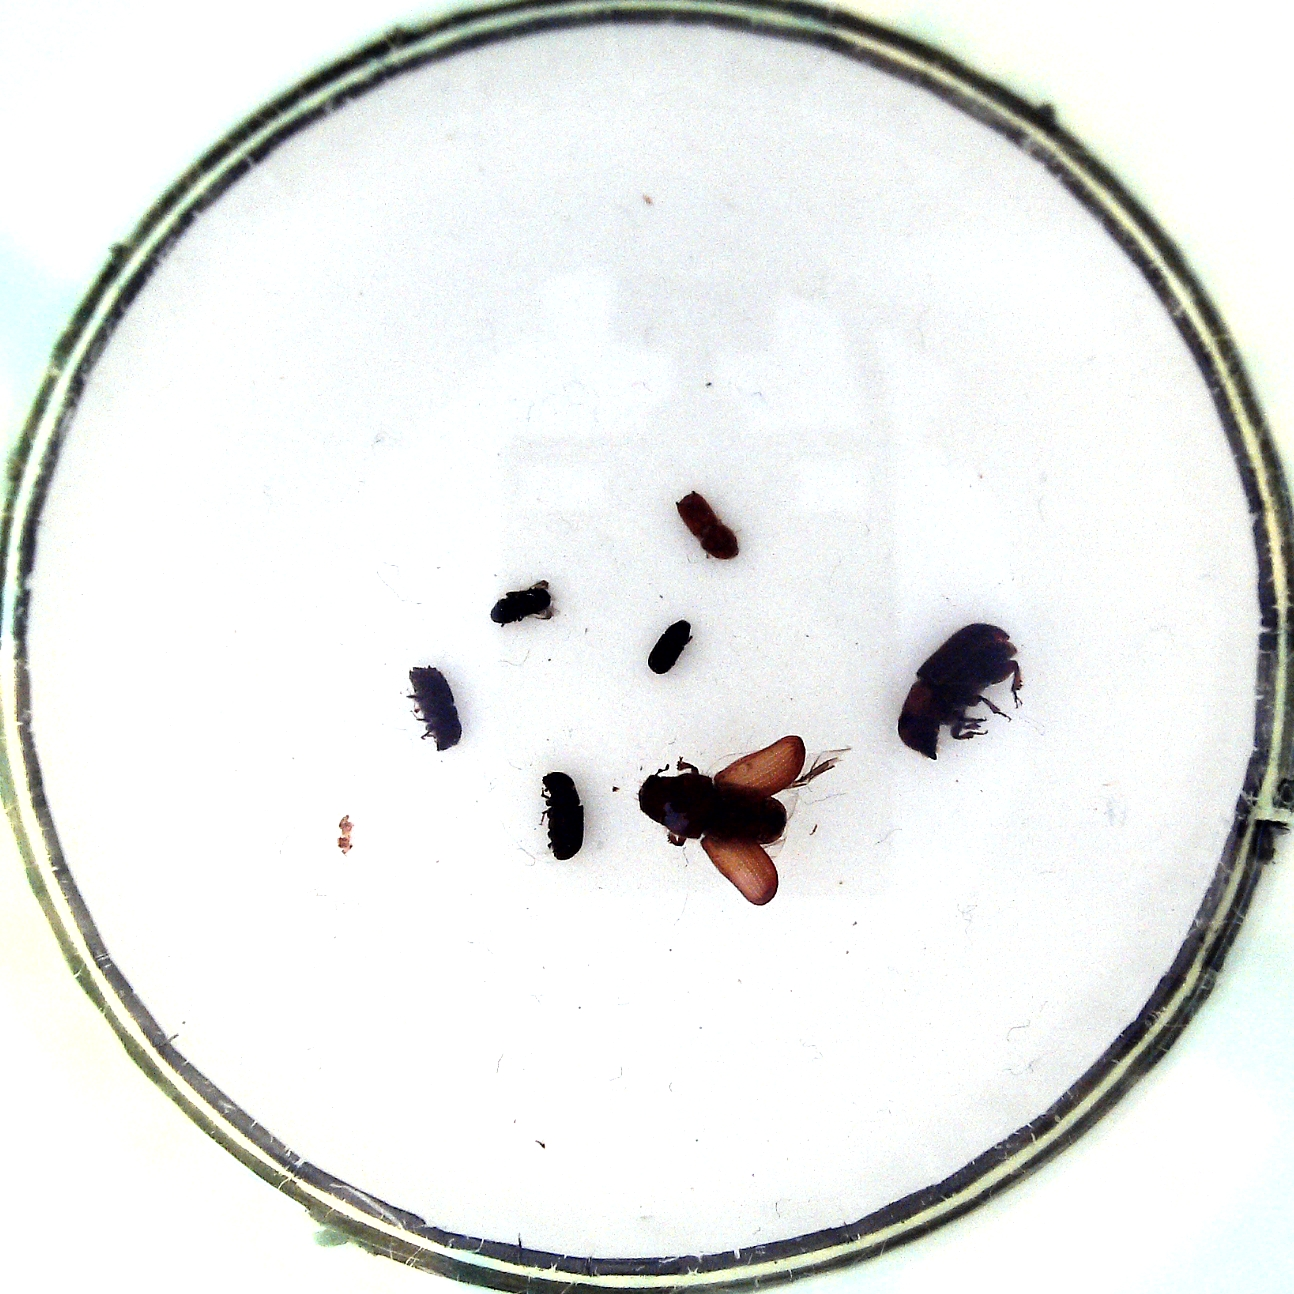Leconte: (635, 734, 832, 908), (893, 622, 1023, 762)
Linnaeus: (401, 664, 465, 758)
acuminatus: (675, 489, 742, 566)
armandi: (534, 771, 588, 865)
coleoptera: (485, 579, 565, 624), (646, 621, 702, 675)
